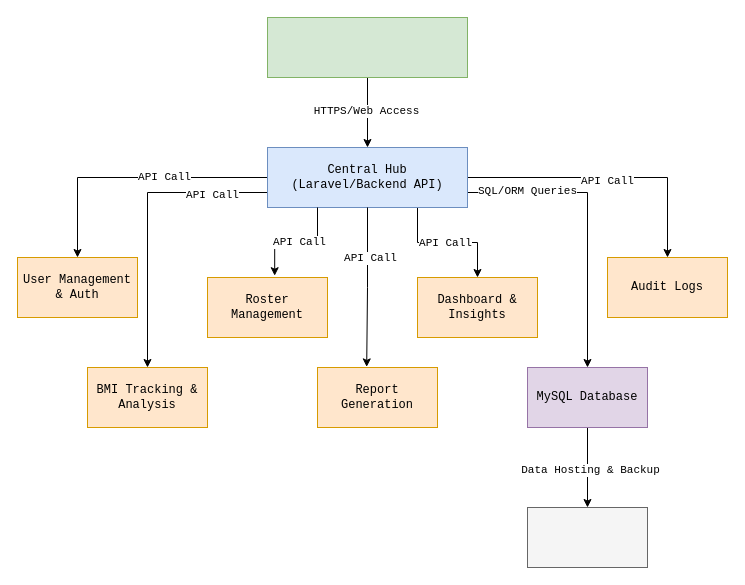
This 745x585 diagram has some shape labels left out. The box of each missing label's shape, as (x1, y1, x2, y2) in pixels:
End Users (Admins, Staff, Health Officers, Personnel): (266, 16, 468, 78)
Hostinger Cloud (Deployment, Scalability): (526, 506, 648, 568)
